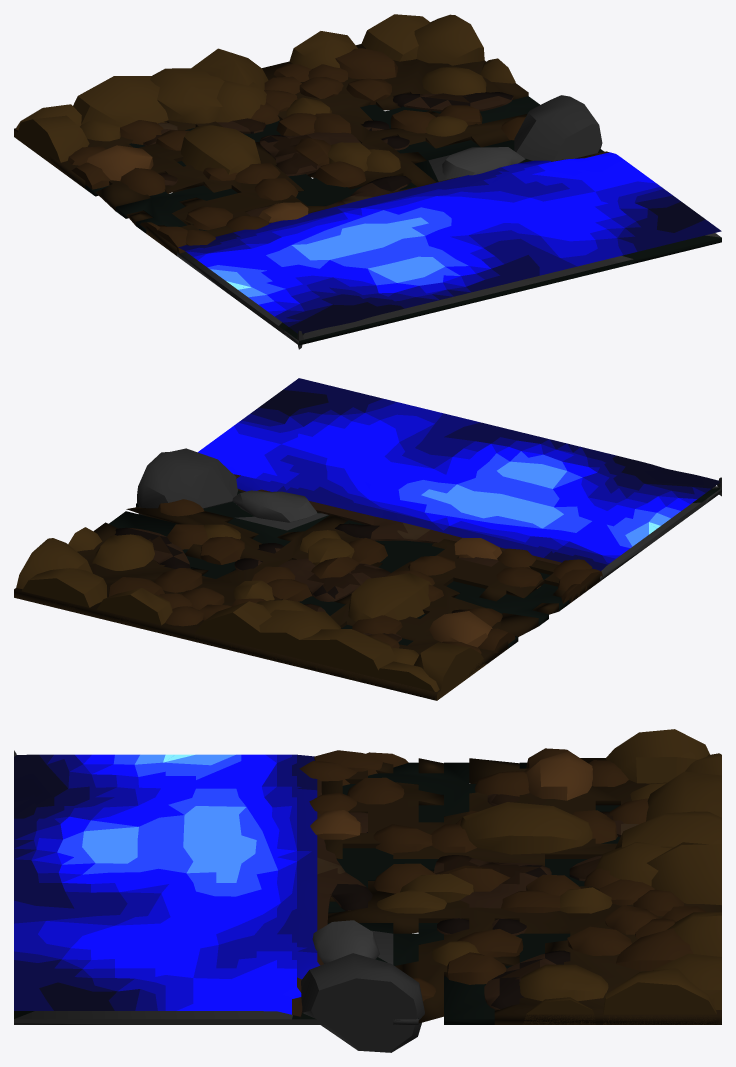
File: holes_rocks_tm_damaged.glb
3 renders of one model, top to bottom at view 1: azimuth 30°, elevation 25°; view 2: azimuth 150°, elevation 25°; view 3: azimuth 270°, elevation 25°, orthographic. The views are drawn at different scales.
Parts seen in each view (by area): view 1: holes_rocks_tm_damaged_pool, holes_rocks_tm_damaged_dirt_base, holes_rocks_tm_damaged_pit, holes_rocks_tm_damaged_stone2, holes_rocks_tm_damaged_dirt_22, holes_rocks_tm_damaged_dirt_41, holes_rocks_tm_damaged_dirt_29, holes_rocks_tm_damaged_dirt_62, holes_rocks_tm_damaged_dirt_63, holes_rocks_tm_damaged_dirt_92, holes_rocks_tm_damaged_stone6, holes_rocks_tm_damaged_dirt_73 (+27 smaller); view 2: holes_rocks_tm_damaged_pool, holes_rocks_tm_damaged_dirt_base, holes_rocks_tm_damaged_pit, holes_rocks_tm_damaged_stone2, holes_rocks_tm_damaged_dirt_22, holes_rocks_tm_damaged_dirt_29, holes_rocks_tm_damaged_dirt_41, holes_rocks_tm_damaged_dirt_92, holes_rocks_tm_damaged_dirt_107, holes_rocks_tm_damaged_dirt_63, holes_rocks_tm_damaged_stone6, holes_rocks_tm_damaged_dirt_73 (+24 smaller); view 3: holes_rocks_tm_damaged_pool, holes_rocks_tm_damaged_dirt_base, holes_rocks_tm_damaged_pit, holes_rocks_tm_damaged_stone2, holes_rocks_tm_damaged_dirt_29, holes_rocks_tm_damaged_dirt_62, holes_rocks_tm_damaged_dirt_63, holes_rocks_tm_damaged_dirt_107, holes_rocks_tm_damaged_dirt_41, holes_rocks_tm_damaged_dirt_22, holes_rocks_tm_damaged_dirt_48, holes_rocks_tm_damaged_dirt_12 (+32 smaller).
Boxes of the visible parts, box(x1,y1,x2,y2) form: holes_rocks_tm_damaged_pool: box(143, 92, 721, 333); holes_rocks_tm_damaged_dirt_base: box(14, 44, 528, 255); holes_rocks_tm_damaged_pit: box(85, 96, 721, 345); holes_rocks_tm_damaged_stone2: box(514, 95, 602, 161); holes_rocks_tm_damaged_dirt_22: box(73, 76, 168, 127); holes_rocks_tm_damaged_dirt_41: box(150, 68, 224, 123); holes_rocks_tm_damaged_dirt_29: box(180, 125, 260, 174); holes_rocks_tm_damaged_dirt_62: box(414, 14, 484, 65); holes_rocks_tm_damaged_dirt_63: box(17, 115, 89, 169); holes_rocks_tm_damaged_dirt_92: box(361, 14, 430, 61); holes_rocks_tm_damaged_stone6: box(442, 147, 525, 179); holes_rocks_tm_damaged_dirt_73: box(289, 31, 357, 69); holes_rocks_tm_damaged_pool: box(115, 378, 720, 642); holes_rocks_tm_damaged_dirt_base: box(14, 507, 599, 700); holes_rocks_tm_damaged_pit: box(109, 486, 721, 648); holes_rocks_tm_damaged_stone2: box(137, 448, 238, 515); holes_rocks_tm_damaged_dirt_22: box(286, 629, 397, 687); holes_rocks_tm_damaged_dirt_29: box(348, 573, 431, 621); holes_rocks_tm_damaged_dirt_41: box(248, 609, 340, 673); holes_rocks_tm_damaged_dirt_92: box(22, 568, 106, 611); holes_rocks_tm_damaged_dirt_107: box(191, 601, 271, 654); holes_rocks_tm_damaged_dirt_63: box(413, 642, 486, 698); holes_rocks_tm_damaged_stone6: box(232, 490, 317, 522); holes_rocks_tm_damaged_dirt_73: box(97, 588, 172, 630); holes_rocks_tm_damaged_pool: box(14, 754, 638, 1018); holes_rocks_tm_damaged_dirt_base: box(321, 758, 721, 1024); holes_rocks_tm_damaged_pit: box(14, 762, 620, 1024); holes_rocks_tm_damaged_stone2: box(301, 953, 424, 1052); holes_rocks_tm_damaged_dirt_29: box(460, 802, 592, 854); holes_rocks_tm_damaged_dirt_62: box(603, 968, 720, 1024); holes_rocks_tm_damaged_dirt_63: box(606, 729, 709, 783); holes_rocks_tm_damaged_dirt_107: box(647, 842, 721, 905); holes_rocks_tm_damaged_dirt_41: box(615, 811, 721, 848); holes_rocks_tm_damaged_dirt_22: box(646, 771, 721, 821); holes_rocks_tm_damaged_dirt_48: box(519, 964, 608, 1001); holes_rocks_tm_damaged_dirt_12: box(524, 751, 592, 800).
Bounding box in the file's own units: 23.98 × 3.62 × 27.98.
